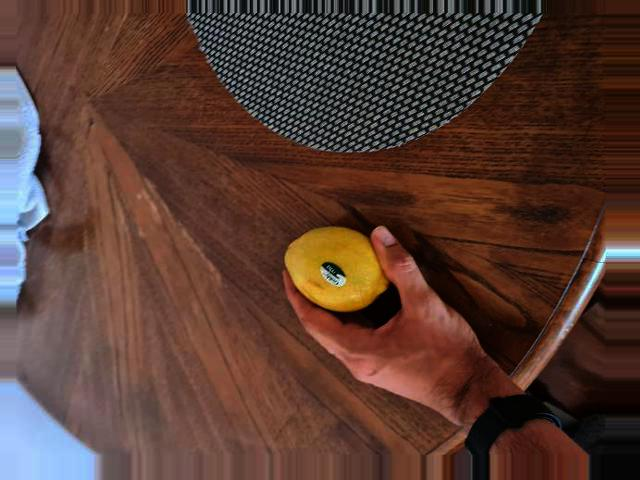lemon: (285, 228, 393, 312)
